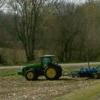Tractor: (10, 51, 68, 91)
